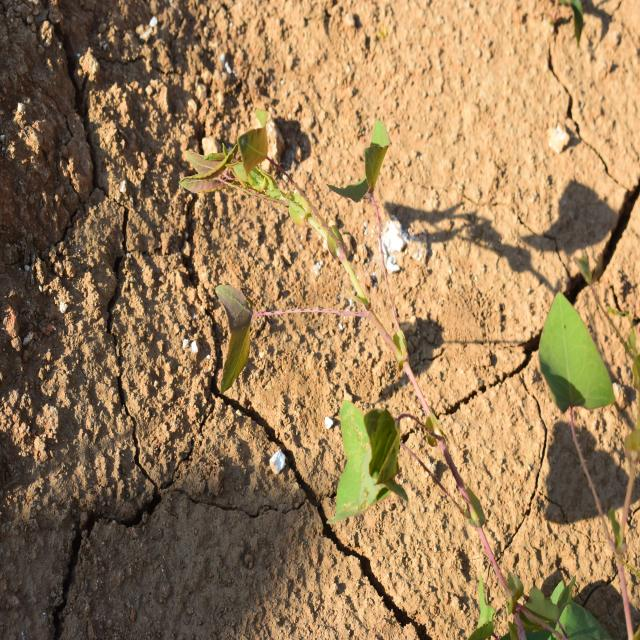Asiatic_Smartweed: (166, 124, 489, 503)
